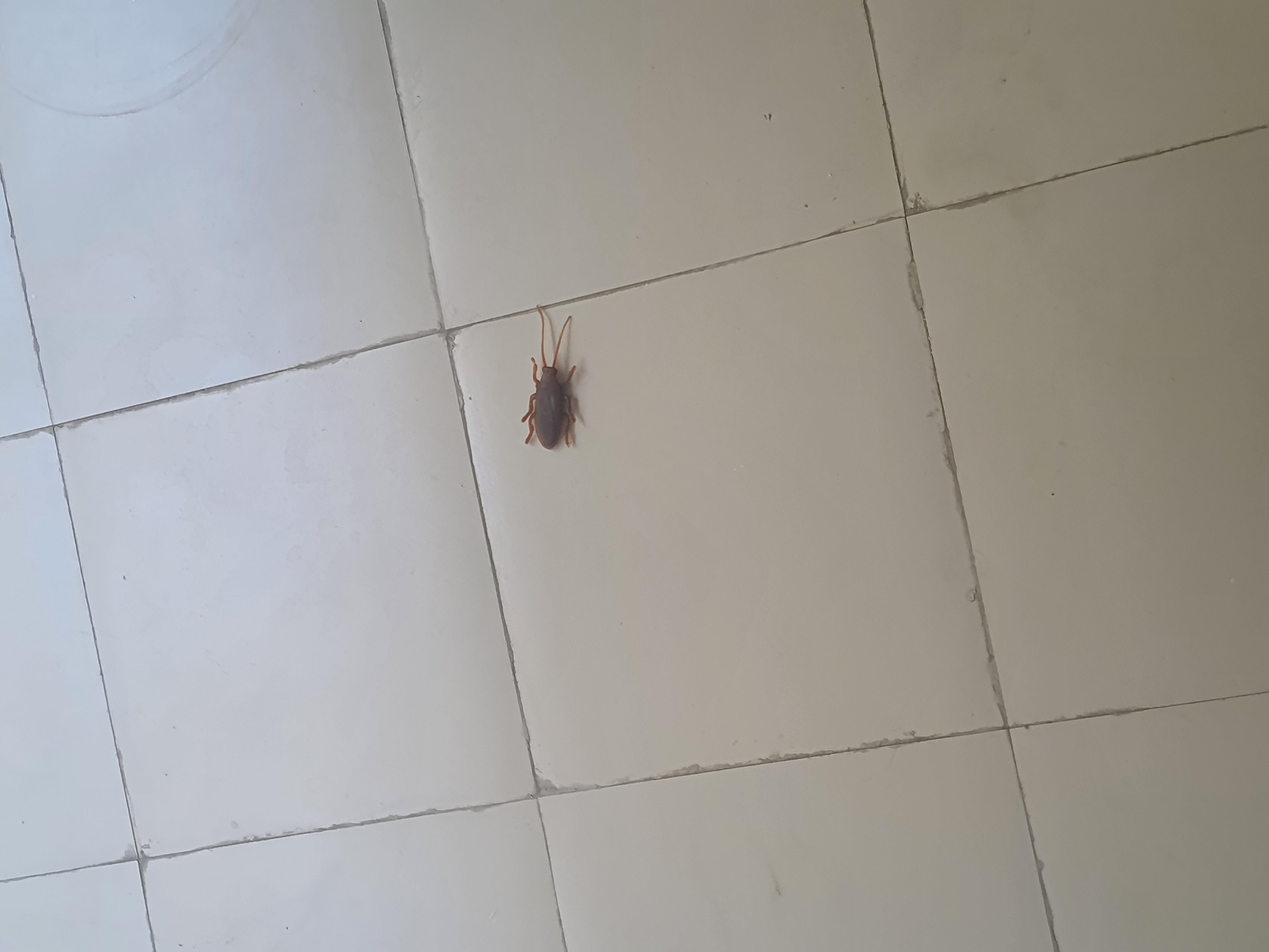cockroach: (653, 375, 857, 449)
